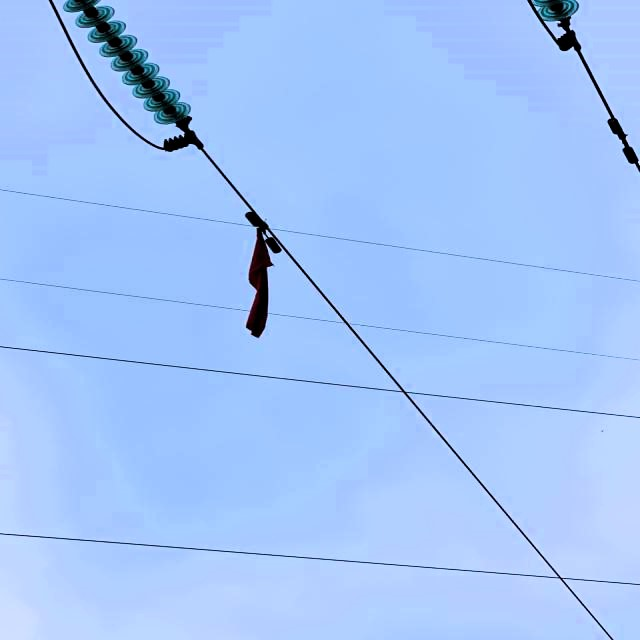wire foreign body: (232, 206, 298, 351)
